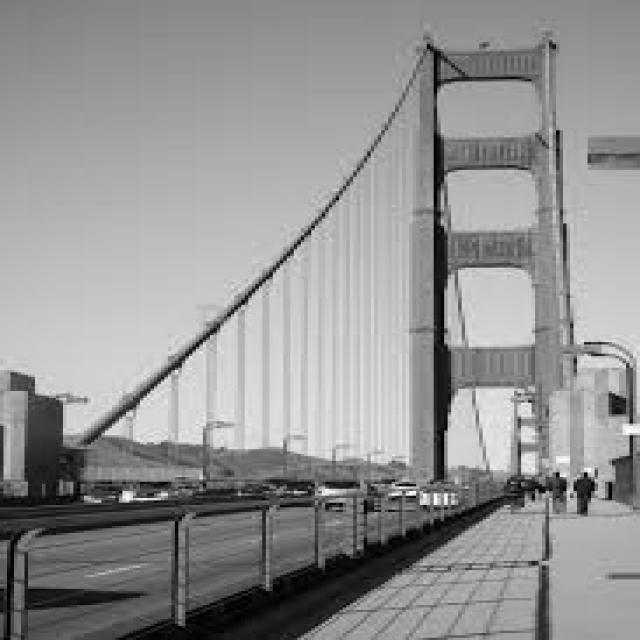Bridges: (17, 2, 640, 640)
